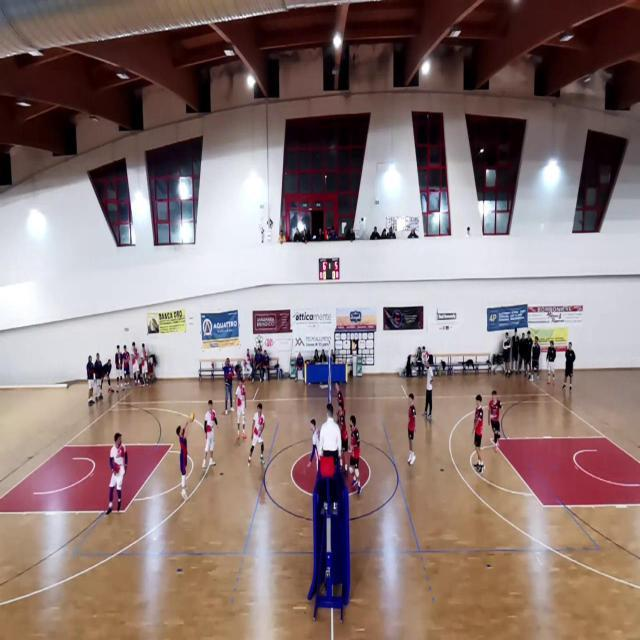volleyball: (188, 412, 196, 423)
